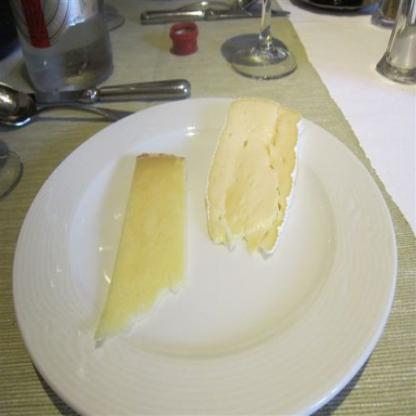parmesan cheese: (100, 157, 190, 343)
